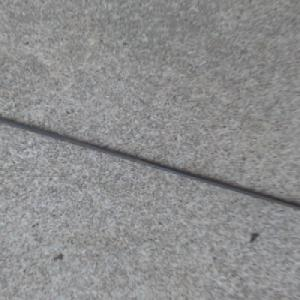LuggagePart: (0, 114, 300, 209)
